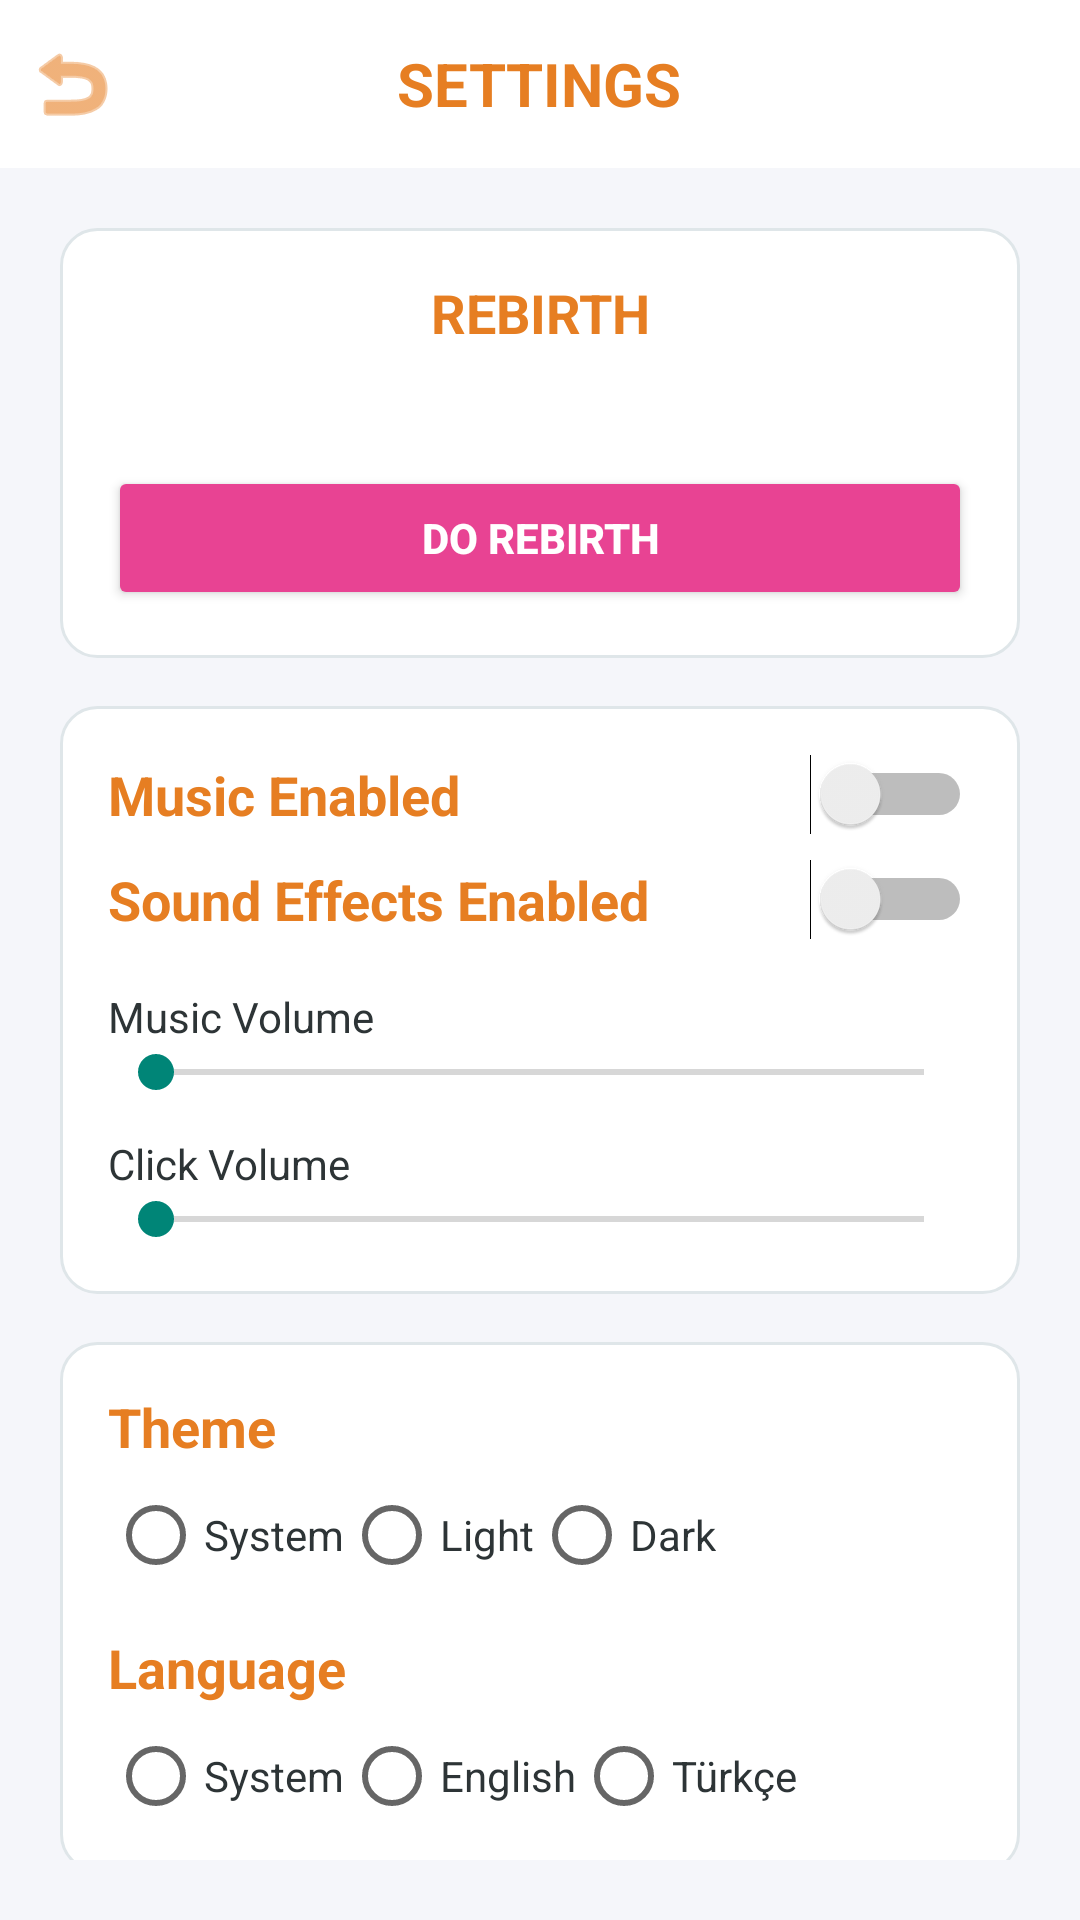

Icon click points for this 1080w x 1920h phone screenshot, format [x,y]:
revert: [73,84]
